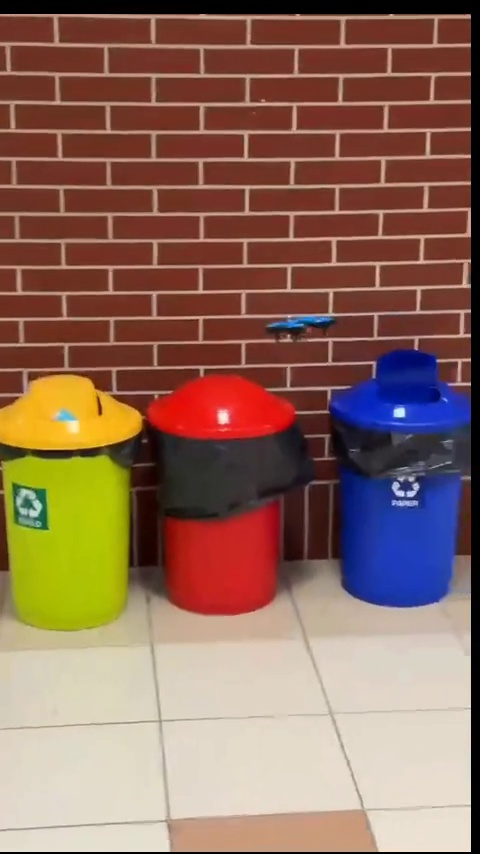drone: (263, 313, 338, 344)
